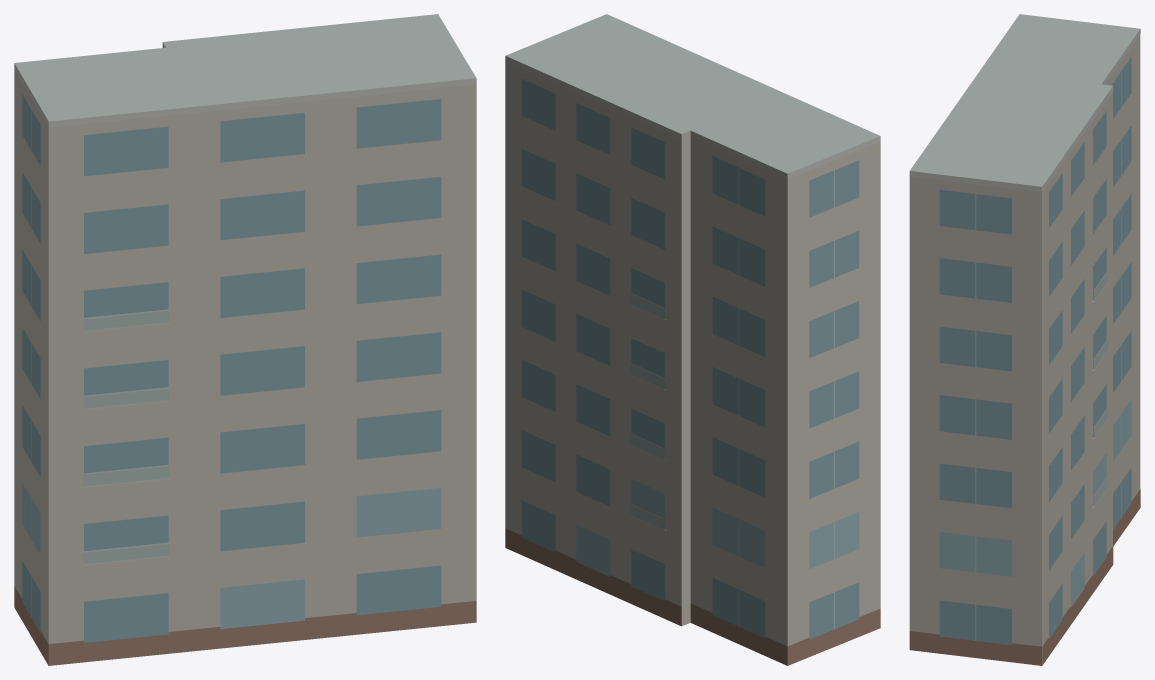
The model's file is survey-upis-32872837.glb.
3 views of the same model, side by side, from view 1: azimuth 30°, elevation 25°; view 2: azimuth 150°, elevation 25°; view 3: azimuth 270°, elevation 25° (orthographic). The views are drawn at different scales.
Visible parts, largest first — view 1: survey-upis-32872837.tmp; view 2: survey-upis-32872837.tmp; view 3: survey-upis-32872837.tmp.
Boxes of the visible parts, x1,y1,x2,y2 form: survey-upis-32872837.tmp: [14, 14, 476, 665]; survey-upis-32872837.tmp: [505, 14, 880, 665]; survey-upis-32872837.tmp: [909, 14, 1140, 665].
Size of the model in its own units: 16.91 by 21.85 by 9.55.
